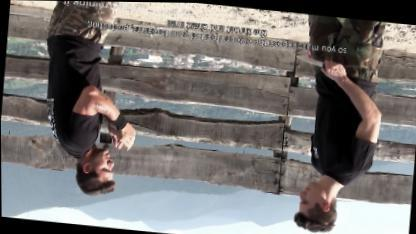knife: (290, 49, 348, 77)
